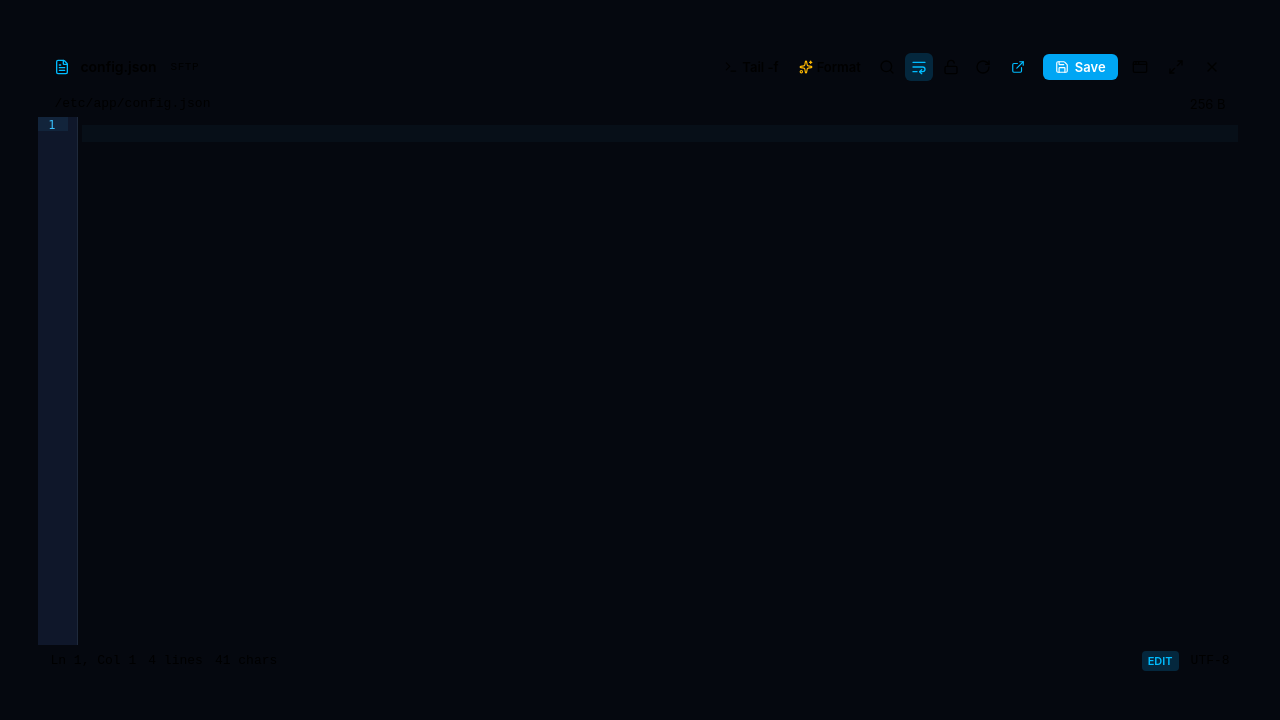
Scenario: FileEditorModal › launches external editor when External Editor button is clicked
Click the button named "External Editor" at (1018, 67), box [1001, 56, 1035, 78]
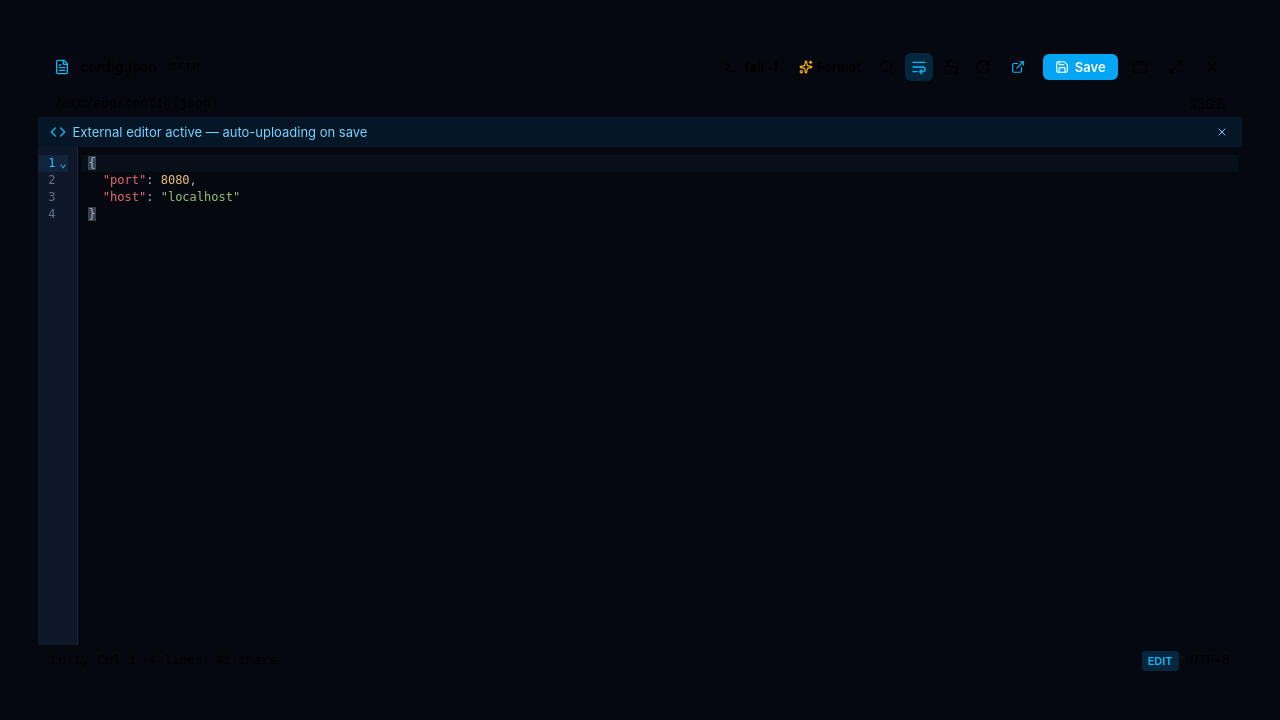
Now the text "External editor active — auto-uploading on save" is shown, box [72, 123, 367, 141]
